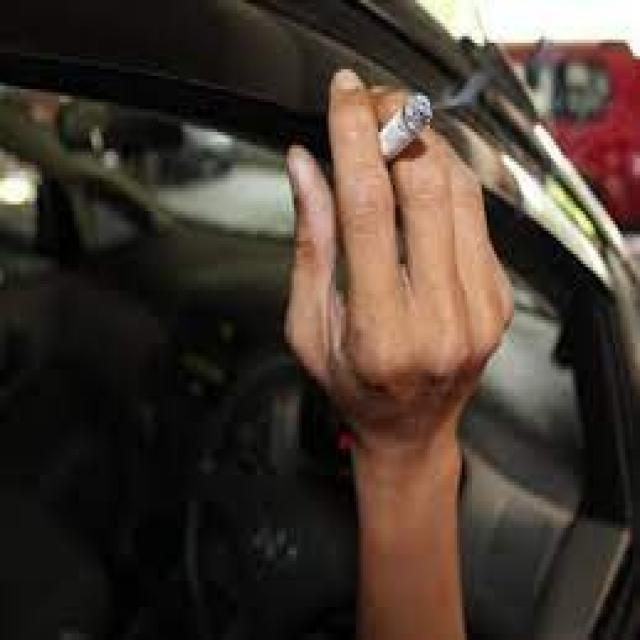rokok: (370, 88, 432, 158)
